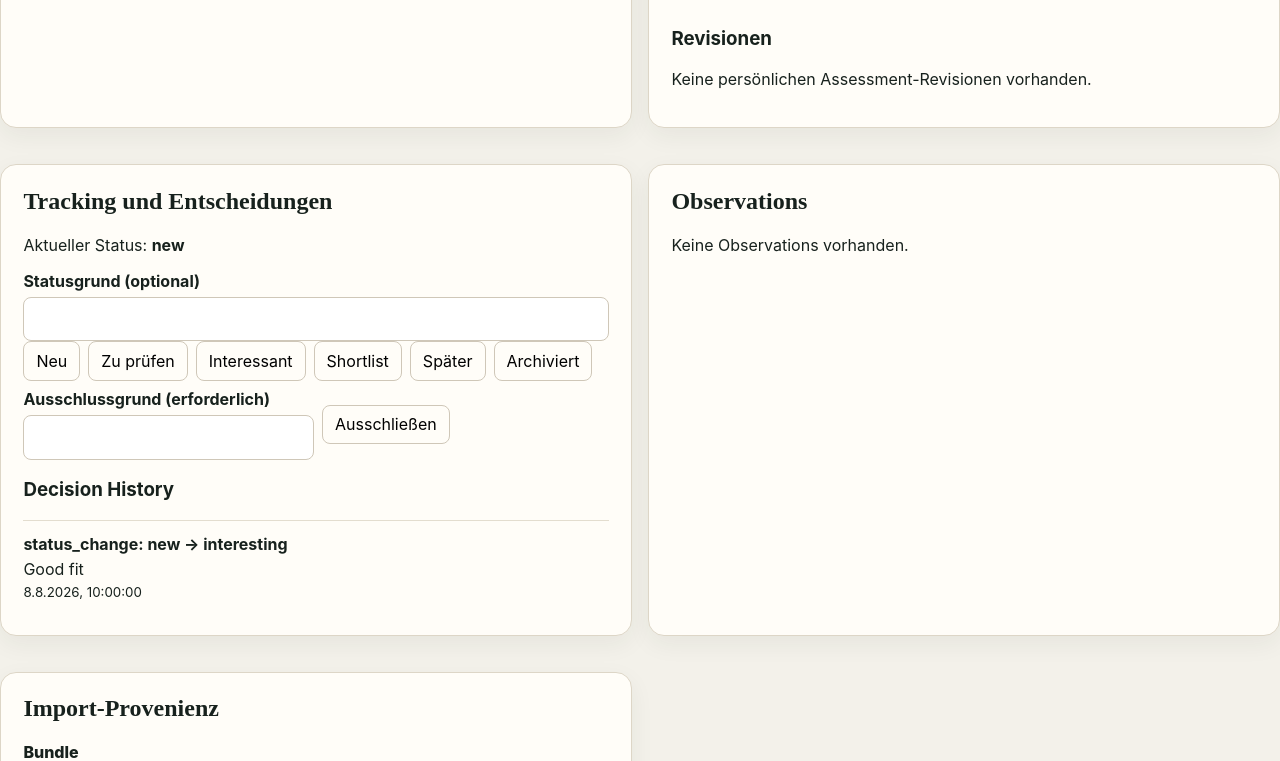
Test case: Personal Triage UI › keeps the loaded opportunity visible when a mutation fails
(page scrolled)
Click the button "Interessant".
click(251, 361)  # box [196, 341, 306, 381]
(page scrolled)
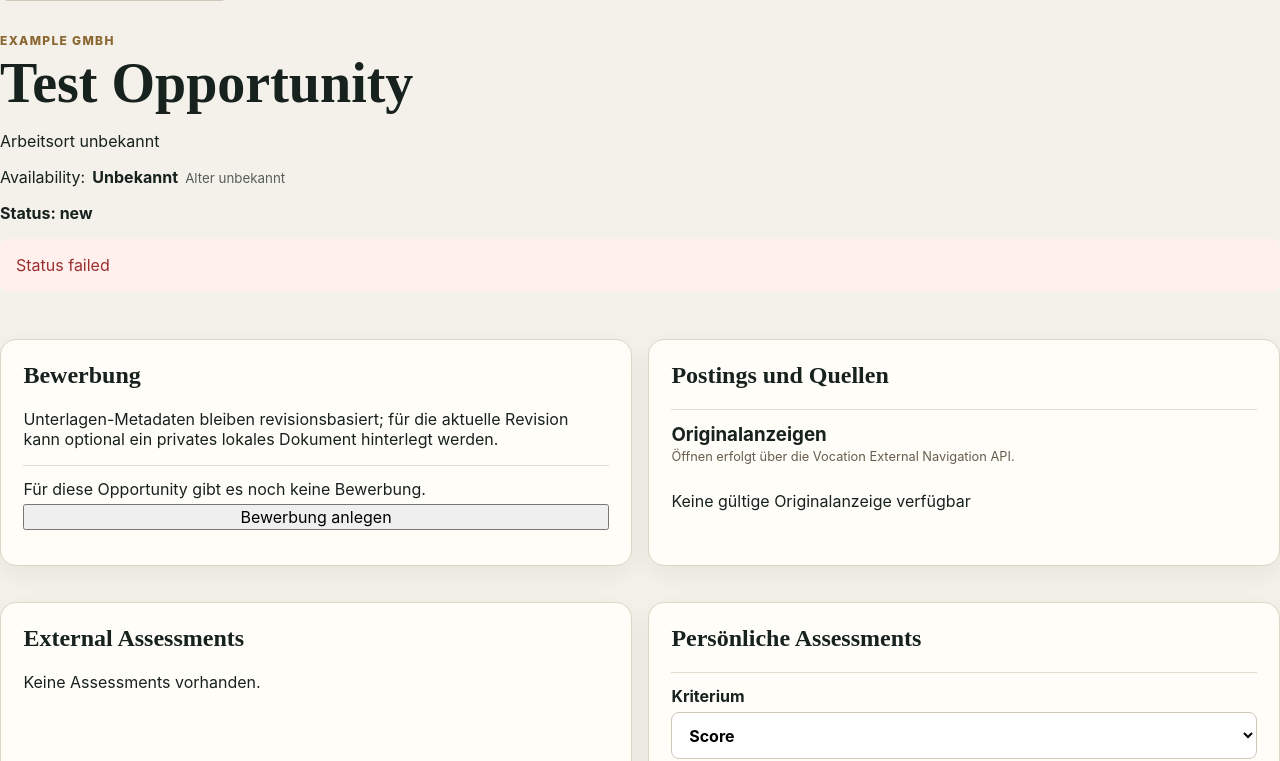
Check: the heading "Test Opportunity" is shown, box [0, 52, 413, 114]
Check: the message reads "Status failed", box [16, 255, 110, 275]
